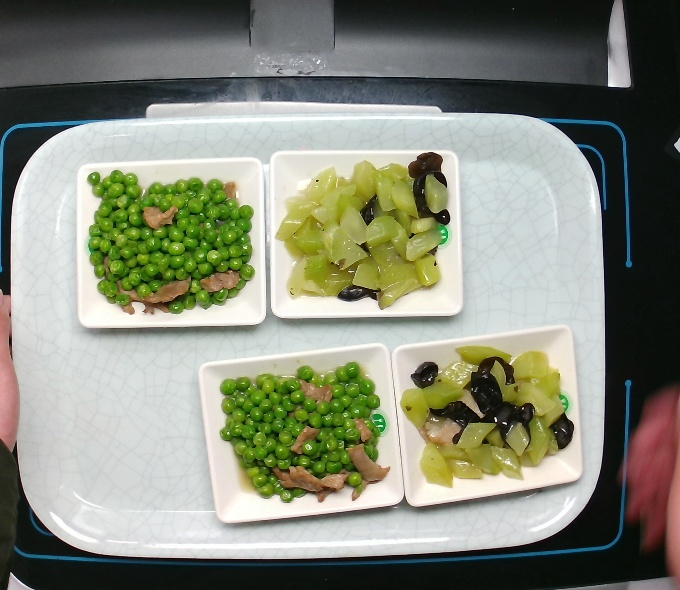wcq-CanDouRouSi: (86, 162, 256, 321), (224, 355, 383, 504)
wcq-WoSunKuai: (275, 154, 460, 309), (393, 335, 578, 490)
